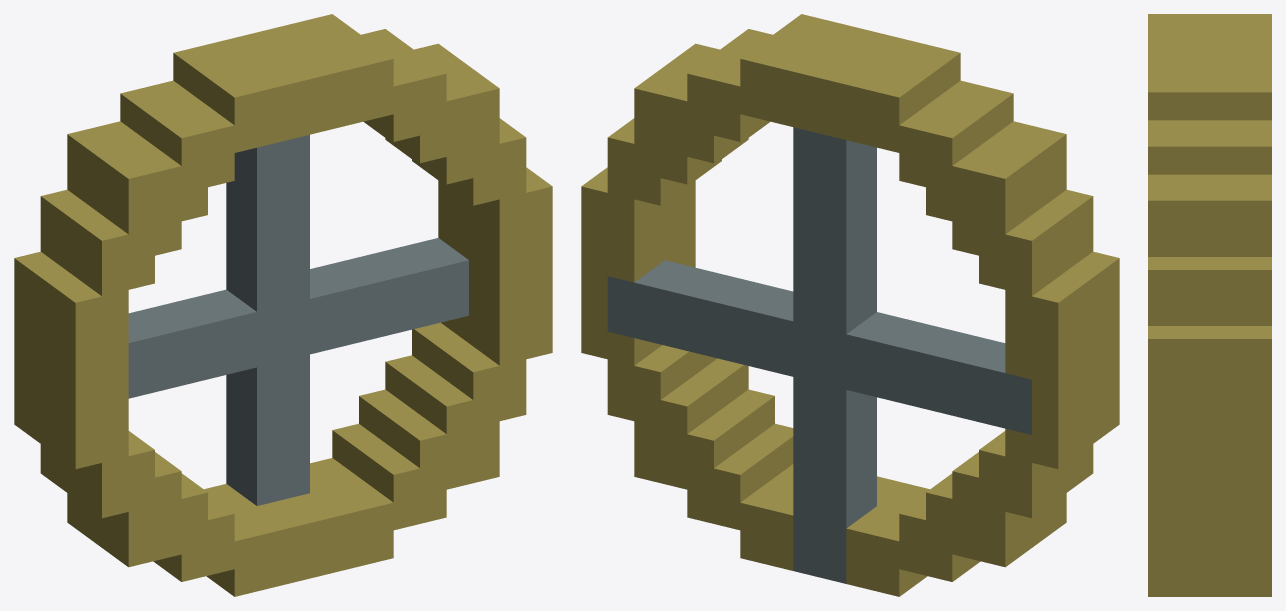
File: energy-06.glb
3 views of the same model, side by side, from view 1: azimuth 30°, elevation 25°; view 2: azimuth 150°, elevation 25°; view 3: azimuth 270°, elevation 25° (orthographic).
Parts seen in each view (by area): view 1: Hydro wheel; view 2: Hydro wheel; view 3: Hydro wheel.
Part boxes in pixels (left/top/right/bottom): Hydro wheel: left=14, top=14, right=552, bottom=596; Hydro wheel: left=581, top=14, right=1119, bottom=596; Hydro wheel: left=1148, top=14, right=1271, bottom=596.
Size of the model in its own units: 1.44 by 1.44 by 0.32.
